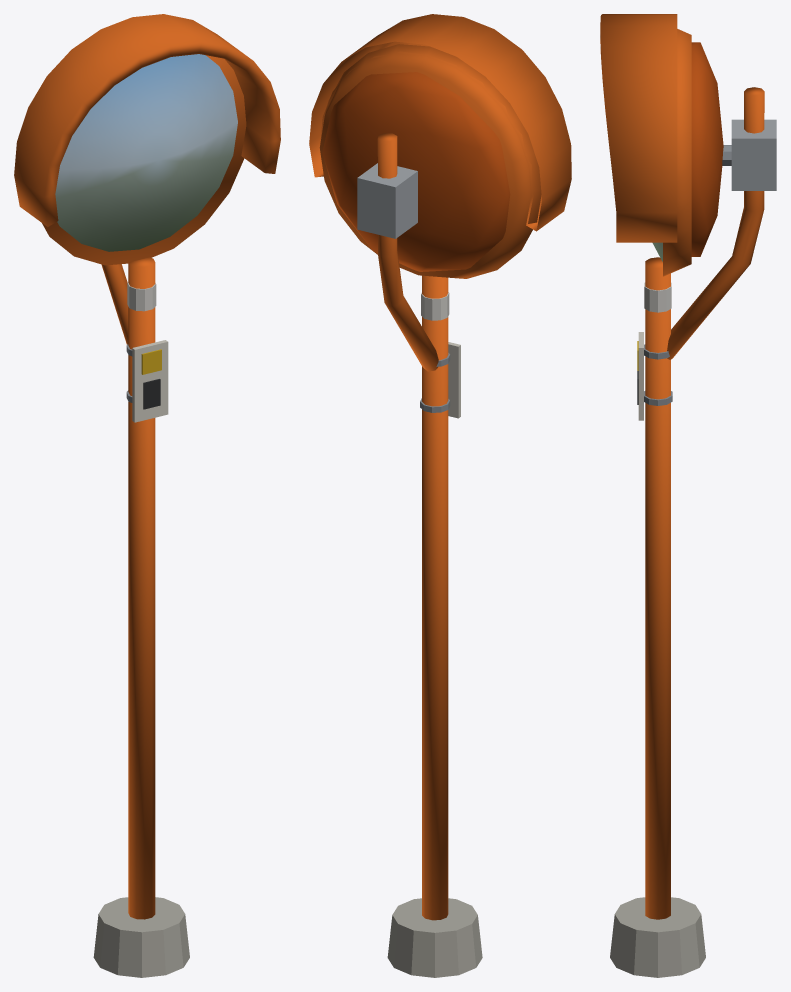
File: mirror.glb
The picture shows the model from 3 angles, left to right: view 1: azimuth 30°, elevation 25°; view 2: azimuth 150°, elevation 25°; view 3: azimuth 270°, elevation 25°; orthographic projection.
Visible parts, largest first — view 1: mirror; view 2: mirror; view 3: mirror.
Part boxes in pixels (<box>): mirror: <box>14,14,280,977</box>; mirror: <box>309,14,571,977</box>; mirror: <box>600,14,776,977</box>.
Bounding box in the file's own units: 0.8491 × 3.2 × 0.55.
